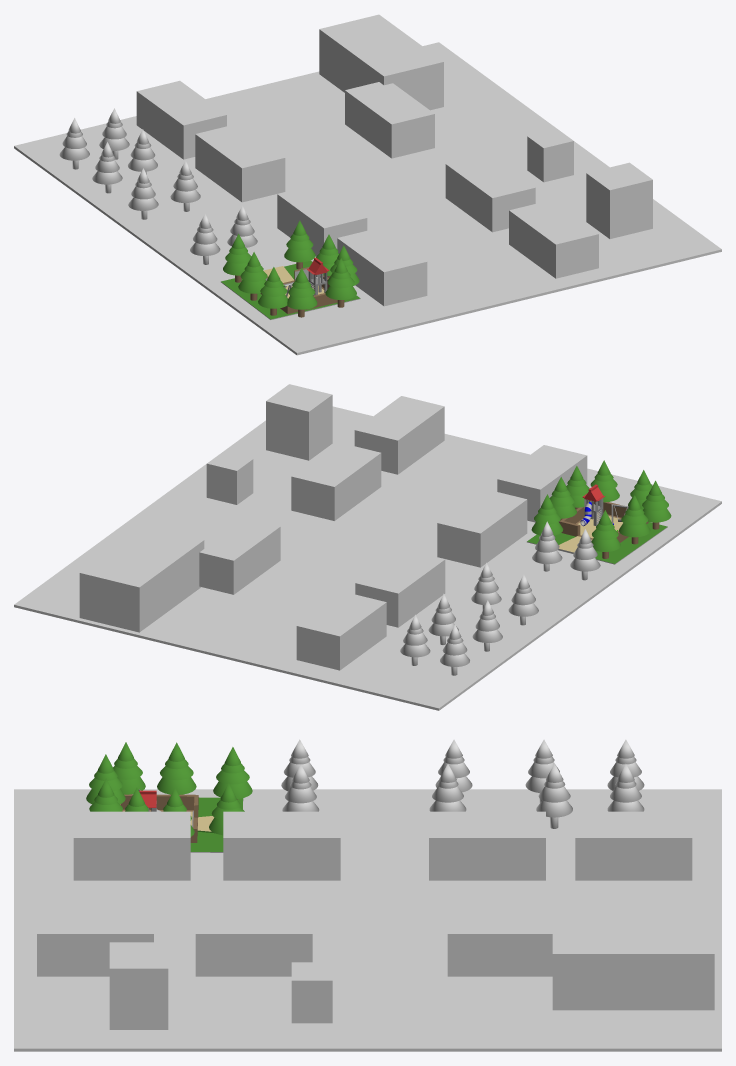
File: proekt.fbx
The picture shows the model from 3 angles, top to bottom: view 1: azimuth 30°, elevation 25°; view 2: azimuth 150°, elevation 25°; view 3: azimuth 270°, elevation 25°; orthographic projection. The views are drawn at different scales.
Visible parts, largest first — view 1: Cube, numerouno, Cube.005, Cube.003, Cube.009, Cube.006, Cube.001, Cube.007, Cube.004, Cube.011, Cube.002, Cube.010 (+8 smaller); view 2: Cube, Cube.005, numerouno, Cube.002, Cube.004, Cube.007, Cube.006, Cube.009, Cube.003, Cube.011, Cube.001, Cube.010 (+8 smaller); view 3: Cube, Cube.005, numerouno, Cube.002, Cube.001, Cube.004, Cube.003, Cube.007, Cube.006, Cube.009, Cube.011, Cube.010 (+8 smaller).
Part boxes in pixels (bbox=[...]): Cube: bbox=[14, 42, 721, 355]; numerouno: bbox=[221, 220, 360, 319]; Cube.005: bbox=[319, 14, 443, 110]; Cube.003: bbox=[195, 123, 285, 202]; Cube.009: bbox=[509, 200, 598, 278]; Cube.006: bbox=[345, 82, 434, 158]; Cube.001: bbox=[337, 227, 427, 306]; Cube.007: bbox=[445, 153, 535, 232]; Cube.004: bbox=[136, 80, 226, 159]; Cube.011: bbox=[586, 162, 652, 238]; Cube.002: bbox=[277, 183, 367, 256]; Cube.010: bbox=[527, 129, 573, 182]; Cube: bbox=[14, 406, 721, 710]; Cube.005: bbox=[79, 525, 204, 632]; numerouno: bbox=[527, 460, 671, 564]; Cube.002: bbox=[437, 488, 527, 567]; Cube.004: bbox=[296, 591, 386, 670]; Cube.007: bbox=[291, 442, 381, 520]; Cube.006: bbox=[199, 516, 280, 594]; Cube.009: bbox=[354, 396, 444, 474]; Cube.003: bbox=[355, 549, 445, 627]; Cube.011: bbox=[266, 384, 332, 460]; Cube.001: bbox=[497, 445, 587, 522]; Cube.010: bbox=[206, 451, 253, 504]; Cube: bbox=[14, 789, 721, 1051]; Cube.005: bbox=[552, 917, 714, 1010]; numerouno: bbox=[86, 742, 252, 852]; Cube.002: bbox=[223, 811, 340, 880]; Cube.001: bbox=[73, 811, 190, 880]; Cube.004: bbox=[575, 811, 692, 880]; Cube.003: bbox=[429, 811, 545, 880]; Cube.007: bbox=[195, 907, 312, 976]; Cube.006: bbox=[447, 907, 564, 976]; Cube.009: bbox=[37, 907, 153, 976]; Cube.011: bbox=[109, 942, 168, 1029]; Cube.010: bbox=[291, 962, 332, 1023].
Size of the model in its own units: 235919 by 28313 by 272073.
